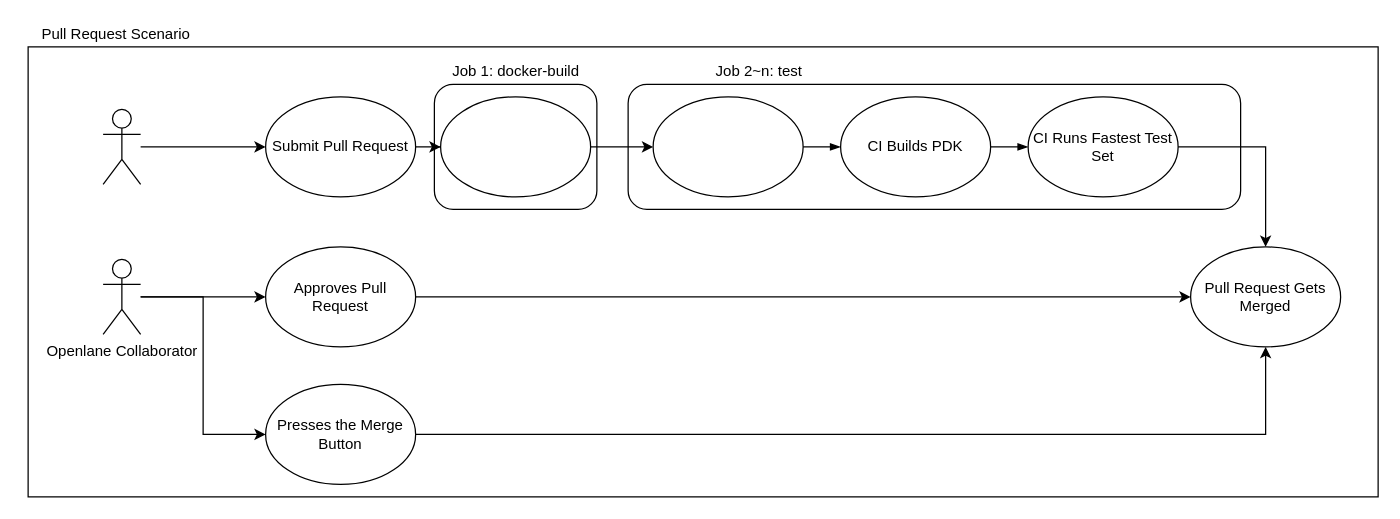
Image size: 1400x519. Some labels were removed from this diagram. Here are the shapes that lost their labels. From the top down, the box of each, then its label:
(102, 108, 141, 184): Pull Request Owner
(439, 96, 591, 197): CI Builds & Pushes Docker Image
(652, 96, 803, 197): CI Pulls Docker Image
